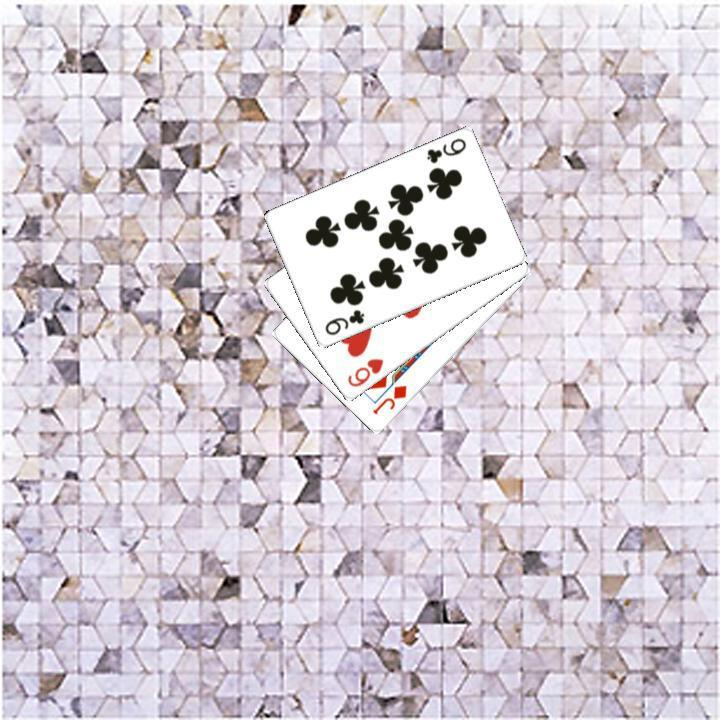6: (343, 354, 385, 389)
9: (320, 305, 367, 338), (422, 134, 468, 166)
J: (368, 381, 409, 417)
